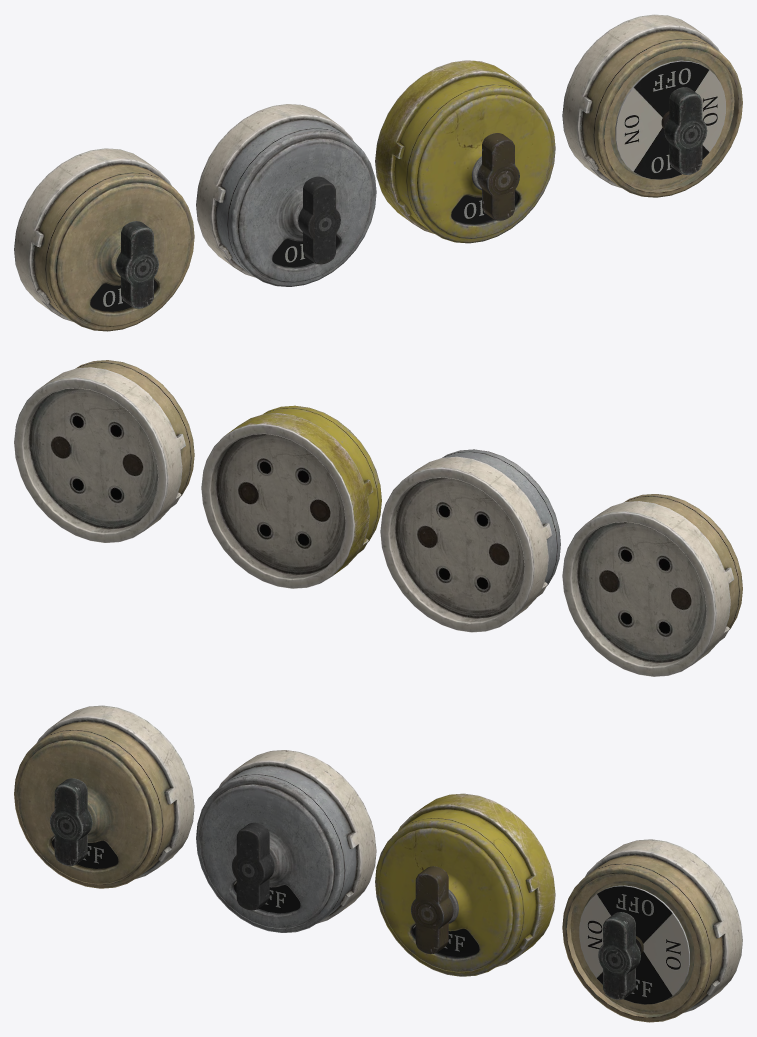
Rendered from vintage_light_switch.glb.
3 renders of one model, top to bottom at view 1: azimuth 30°, elevation 25°; view 2: azimuth 150°, elevation 25°; view 3: azimuth 330°, elevation 25°, orthographic.
Parts seen in each view (by area): view 1: Antique Light Switch Type C Open Face_0, Antique Light Switch Type C Brass_1, Antique Light Switch Type C Painted Yellow_3, Antique Light Switch Type C Metallic_2; view 2: Antique Light Switch Type C Metallic_2, Antique Light Switch Type C Open Face_0, Antique Light Switch Type C Painted Yellow_3, Antique Light Switch Type C Brass_1; view 3: Antique Light Switch Type C Brass_1, Antique Light Switch Type C Painted Yellow_3, Antique Light Switch Type C Open Face_0, Antique Light Switch Type C Metallic_2.
Part boxes in pixels (<box>): Antique Light Switch Type C Open Face_0: <box>562,14,742,197</box>; Antique Light Switch Type C Brass_1: <box>14,148,194,331</box>; Antique Light Switch Type C Painted Yellow_3: <box>375,60,555,243</box>; Antique Light Switch Type C Metallic_2: <box>196,104,376,286</box>; Antique Light Switch Type C Metallic_2: <box>380,449,560,632</box>; Antique Light Switch Type C Open Face_0: <box>14,360,194,542</box>; Antique Light Switch Type C Painted Yellow_3: <box>201,405,381,588</box>; Antique Light Switch Type C Brass_1: <box>562,494,742,676</box>; Antique Light Switch Type C Brass_1: <box>14,705,194,888</box>; Antique Light Switch Type C Painted Yellow_3: <box>375,793,555,976</box>; Antique Light Switch Type C Open Face_0: <box>562,839,742,1022</box>; Antique Light Switch Type C Metallic_2: <box>196,750,376,932</box>.
Size of the model in its own units: 0.359 by 0.0785 by 0.0466.
3 materials, 3 textured.
